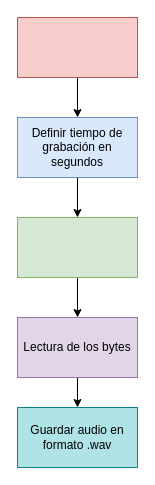
The diagram is 155 pixels wide and 485 high, and some of its shapes have lost their labels. Each missing label, with the centre of its shape:
"Abrir comunicación serial" belongs at pixel 77 247.
"Incluir bibliotecas necesarias" belongs at pixel 77 47.
